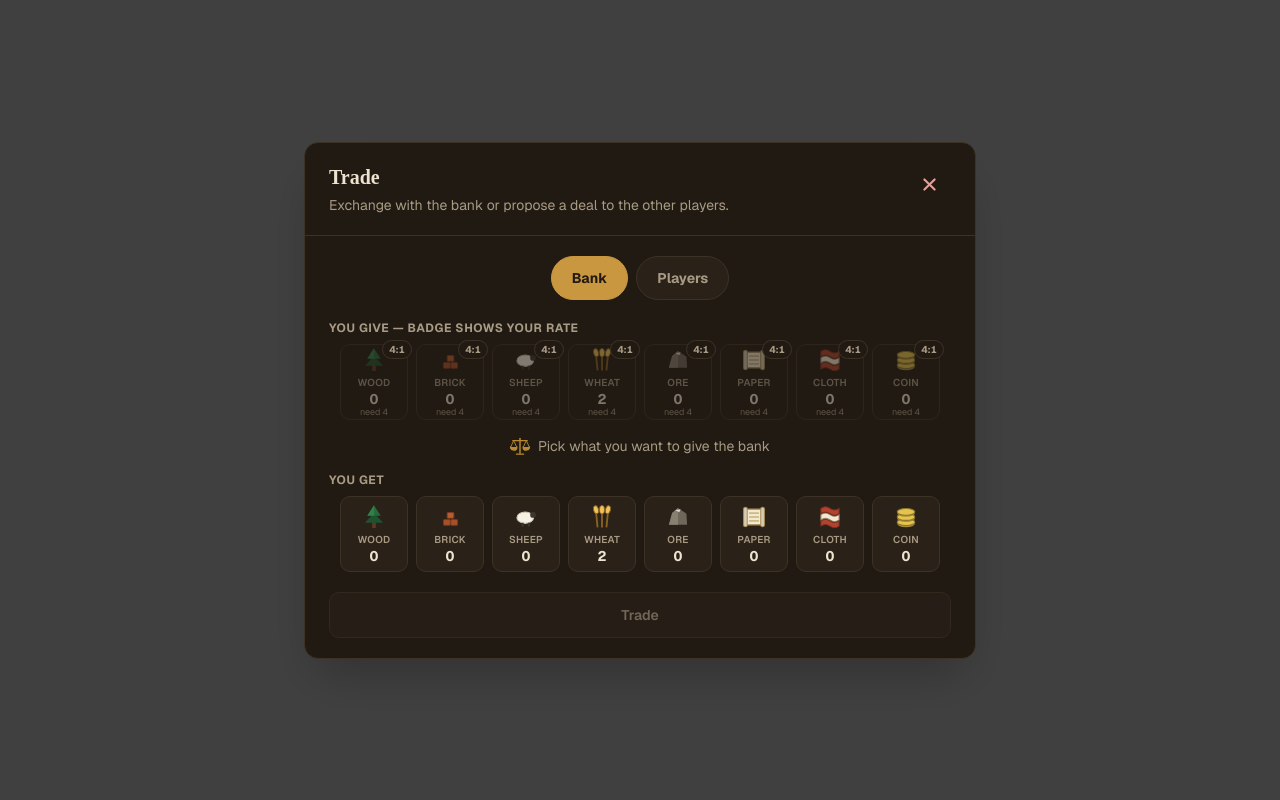
Test: TradeModal — players › clears a composed offer
This screenshot has width=1280, height=800.
Click the button "Players": (683, 278) [636,256,729,300]
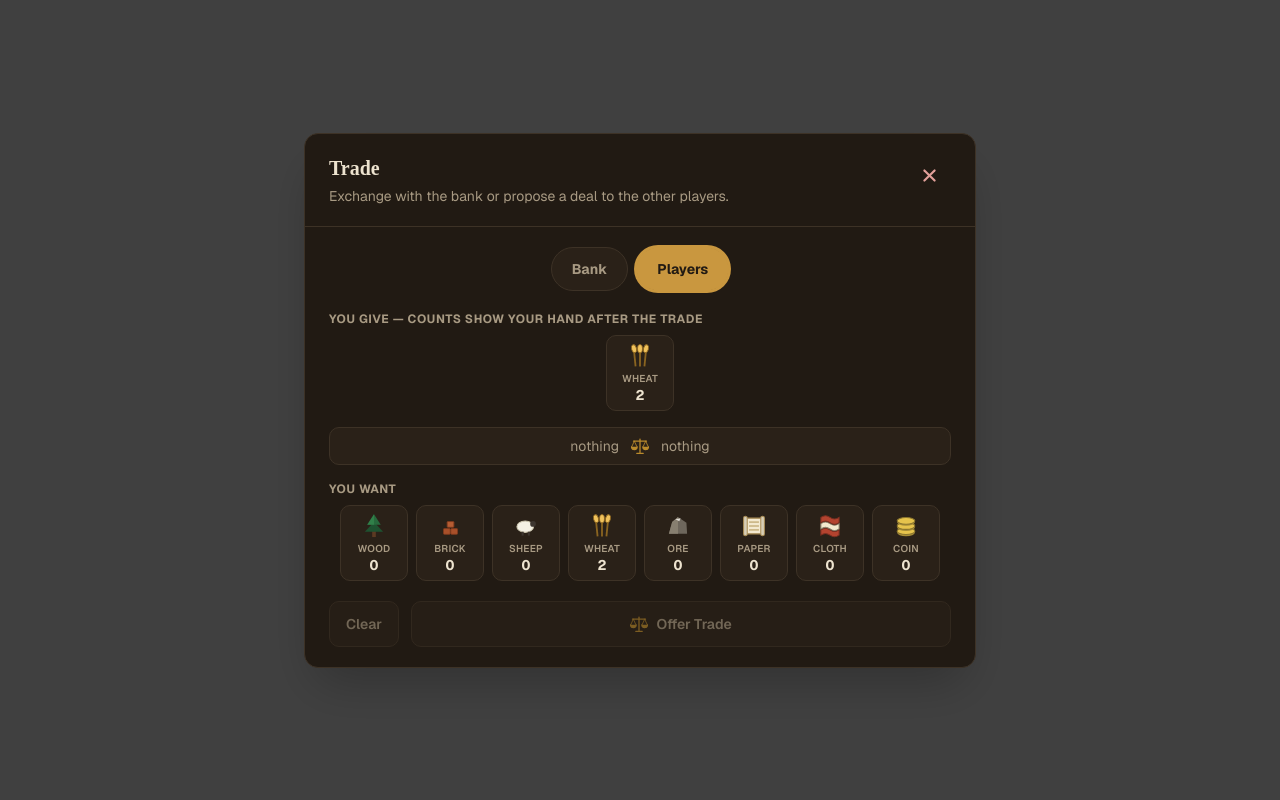
Check: the button "Clear" is disabled, box [329,600,399,646]
Click the button with aria-label "Offer one more Wheat": (640, 372) [606,334,674,410]
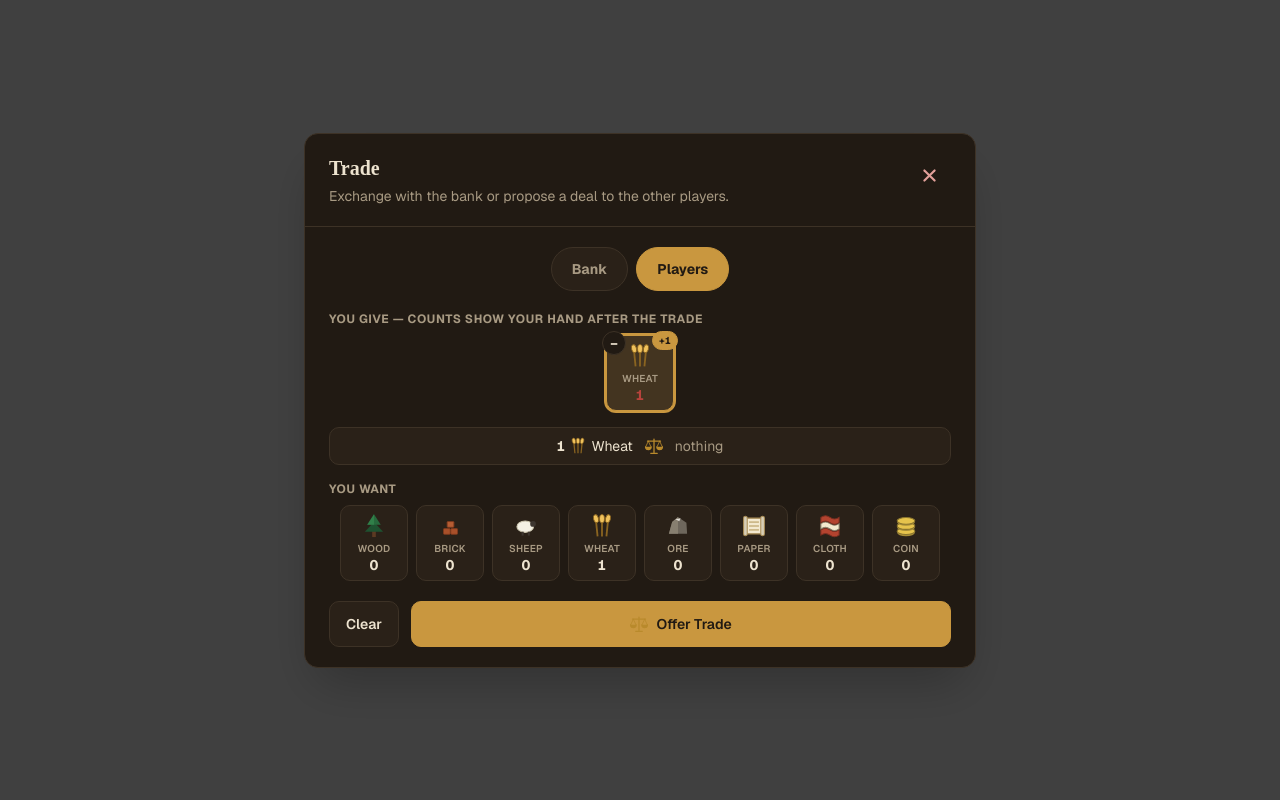
Click the button "Clear": (364, 624) [329,600,399,646]
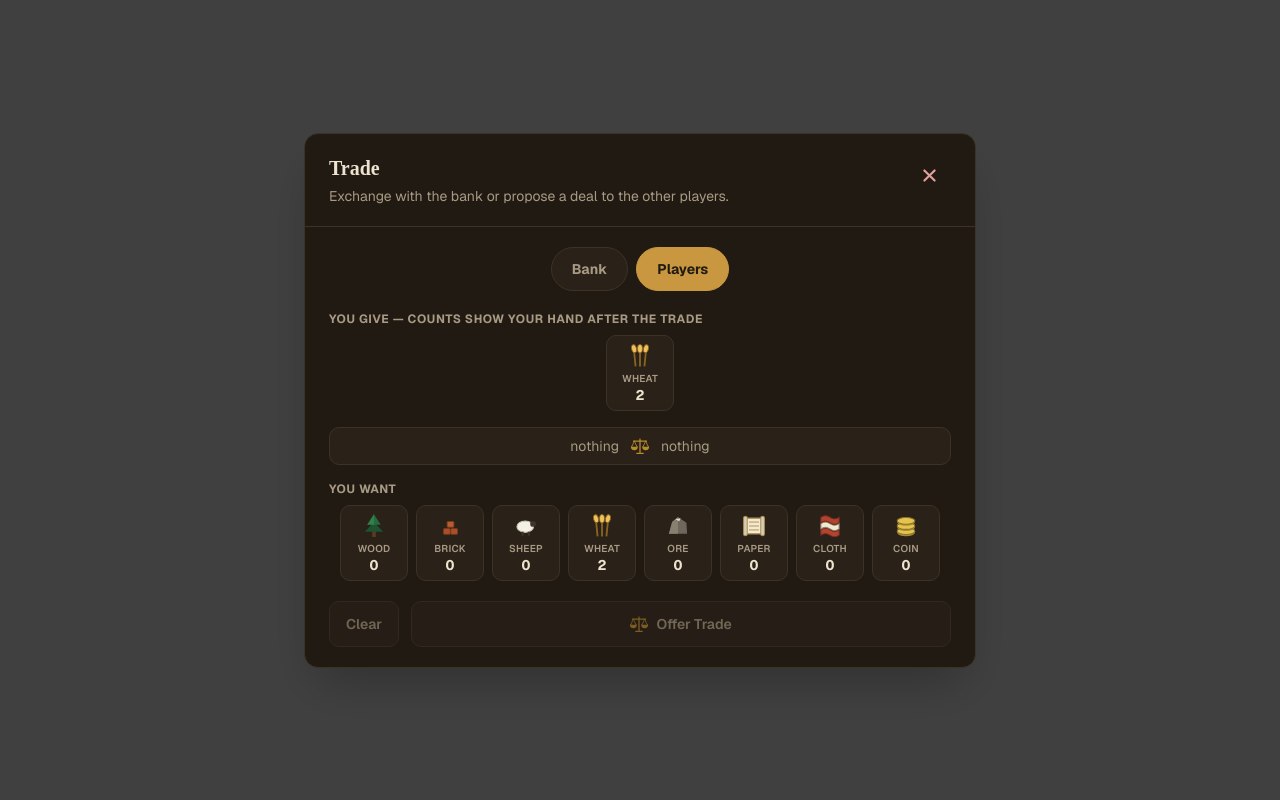
Check: the button with aria-label "Offer one more Wheat, offering 0 of 2" is shown, box [606,334,674,410]
Check: the button "Offer Trade" is disabled, box [411,600,951,646]
